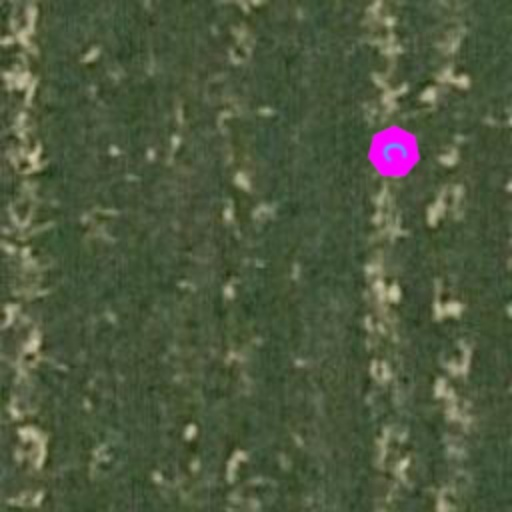heptagon: (358, 116, 430, 188)
